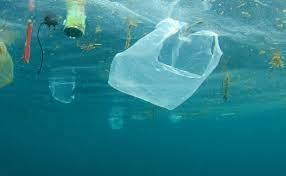Trash: (102, 13, 235, 114)
